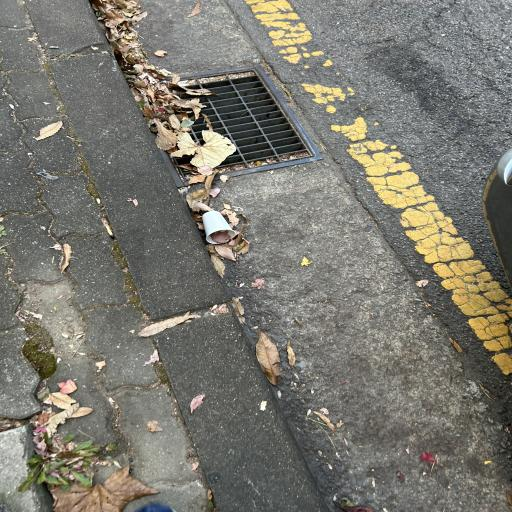debris: (133, 84, 229, 170), (212, 164, 235, 171), (189, 103, 199, 119), (166, 80, 176, 87), (289, 152, 300, 155)
drain: (130, 70, 310, 177)
